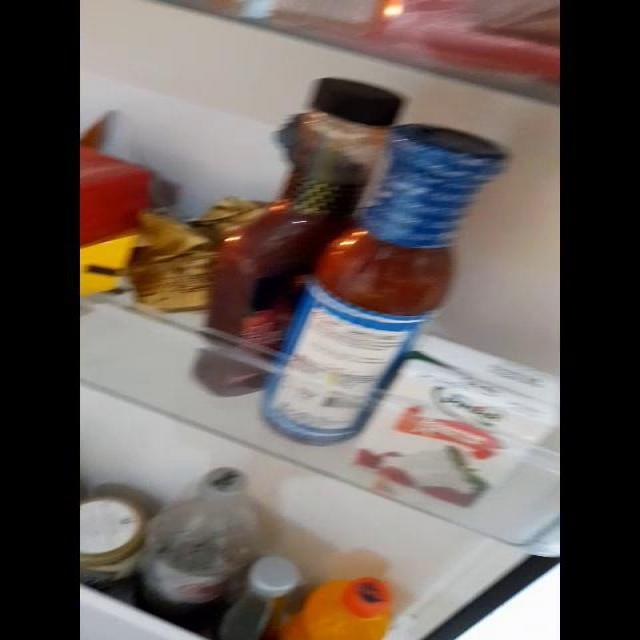cream: (378, 357, 514, 501)
sauce: (214, 90, 390, 384), (326, 137, 486, 344)
